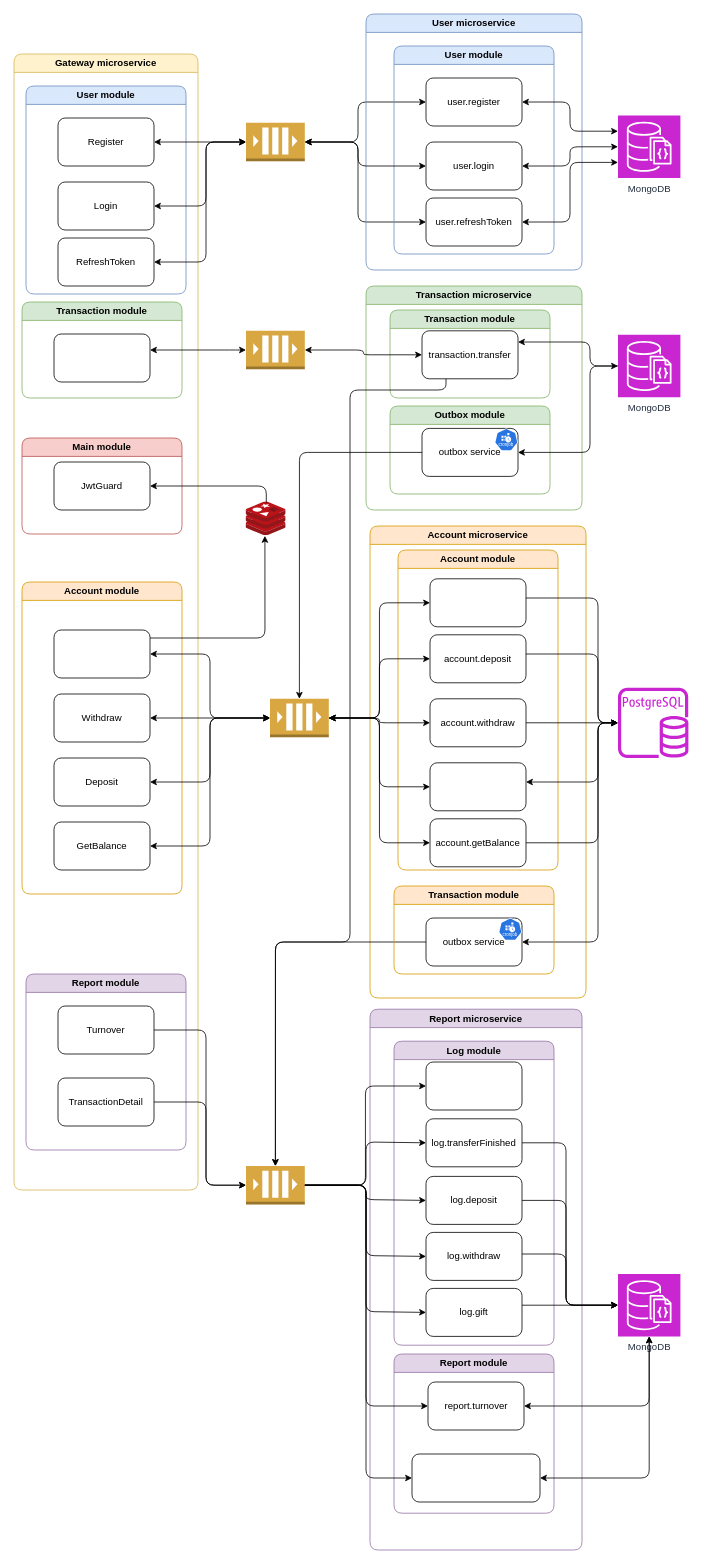
This 702x1564 diagram has some shape labels left out. Here are the shapes that lost their labels. From the top down, the centre of each, then its label:
point 275,141: RabbitMQ User_queue
point 101,357: Transfer
point 275,349: RabbitMQ transaction_queue
point 266,518: Redis
point 477,602: account.transfer
point 101,653: Create
point 299,717: RabbitMQ account_queue
point 477,786: account.create
point 473,1085: log.transferStarted
point 275,1184: RabbitMQ report_queue
point 475,1477: report.transactionDetail
